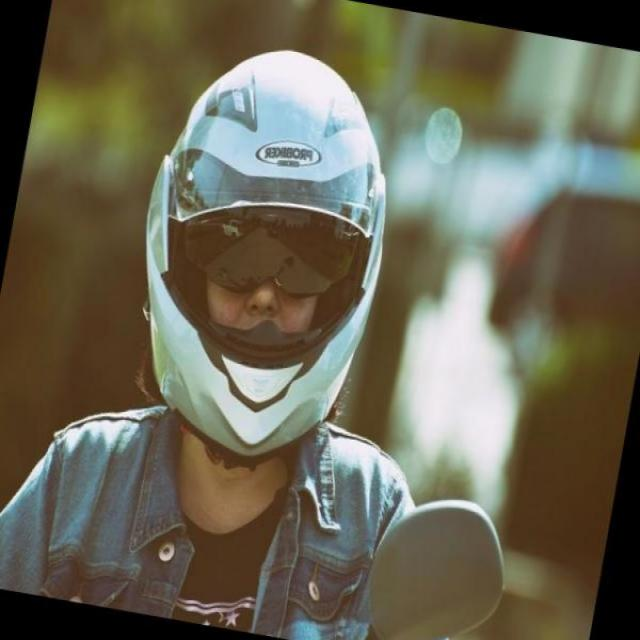Helmet: (140, 46, 388, 462)
